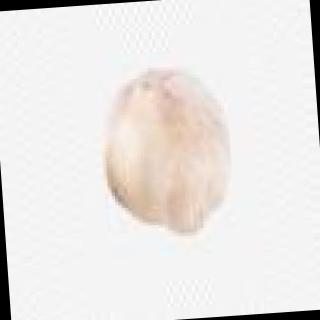Bawang Putih: (94, 51, 237, 239)
